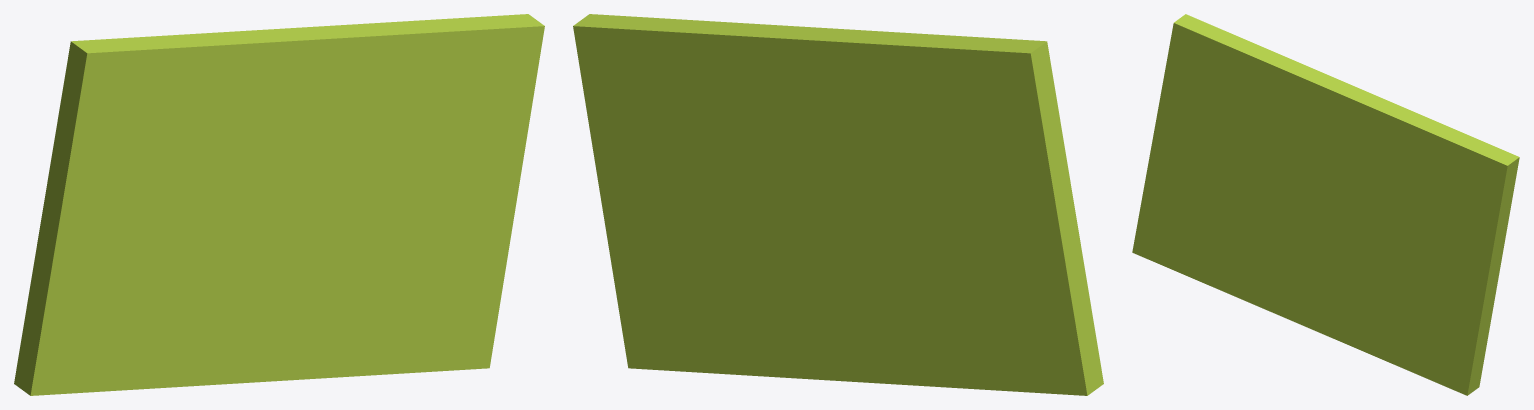
3 views of the same model, side by side, from view 1: azimuth 30°, elevation 25°; view 2: azimuth 150°, elevation 25°; view 3: azimuth 330°, elevation 25° (orthographic). The views are drawn at different scales.
Parts seen in each view (by area): view 1: osm-way27917482-F-1; view 2: osm-way27917482-F-1; view 3: osm-way27917482-F-1.
Part boxes in pixels (<box>): osm-way27917482-F-1: <box>14,14,544,395</box>; osm-way27917482-F-1: <box>573,14,1103,395</box>; osm-way27917482-F-1: <box>1132,14,1519,395</box>.
Bounding box in the file's own units: 2.7 × 2.07 × 0.15.
